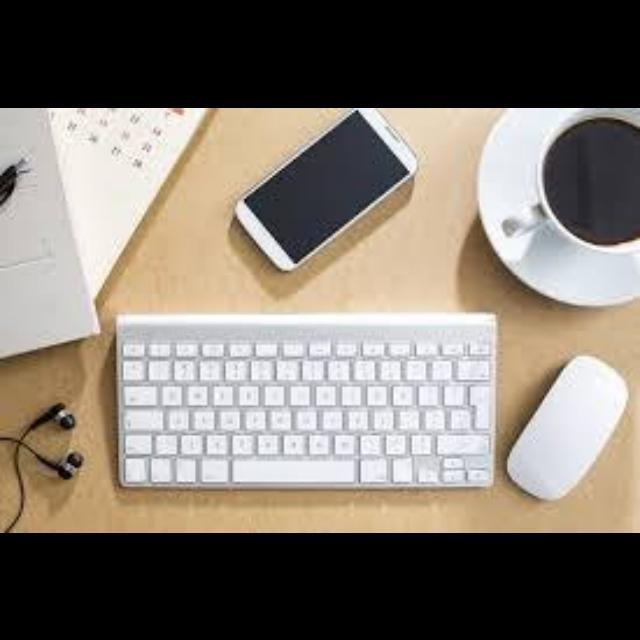PhoneUse: (232, 109, 420, 274)
